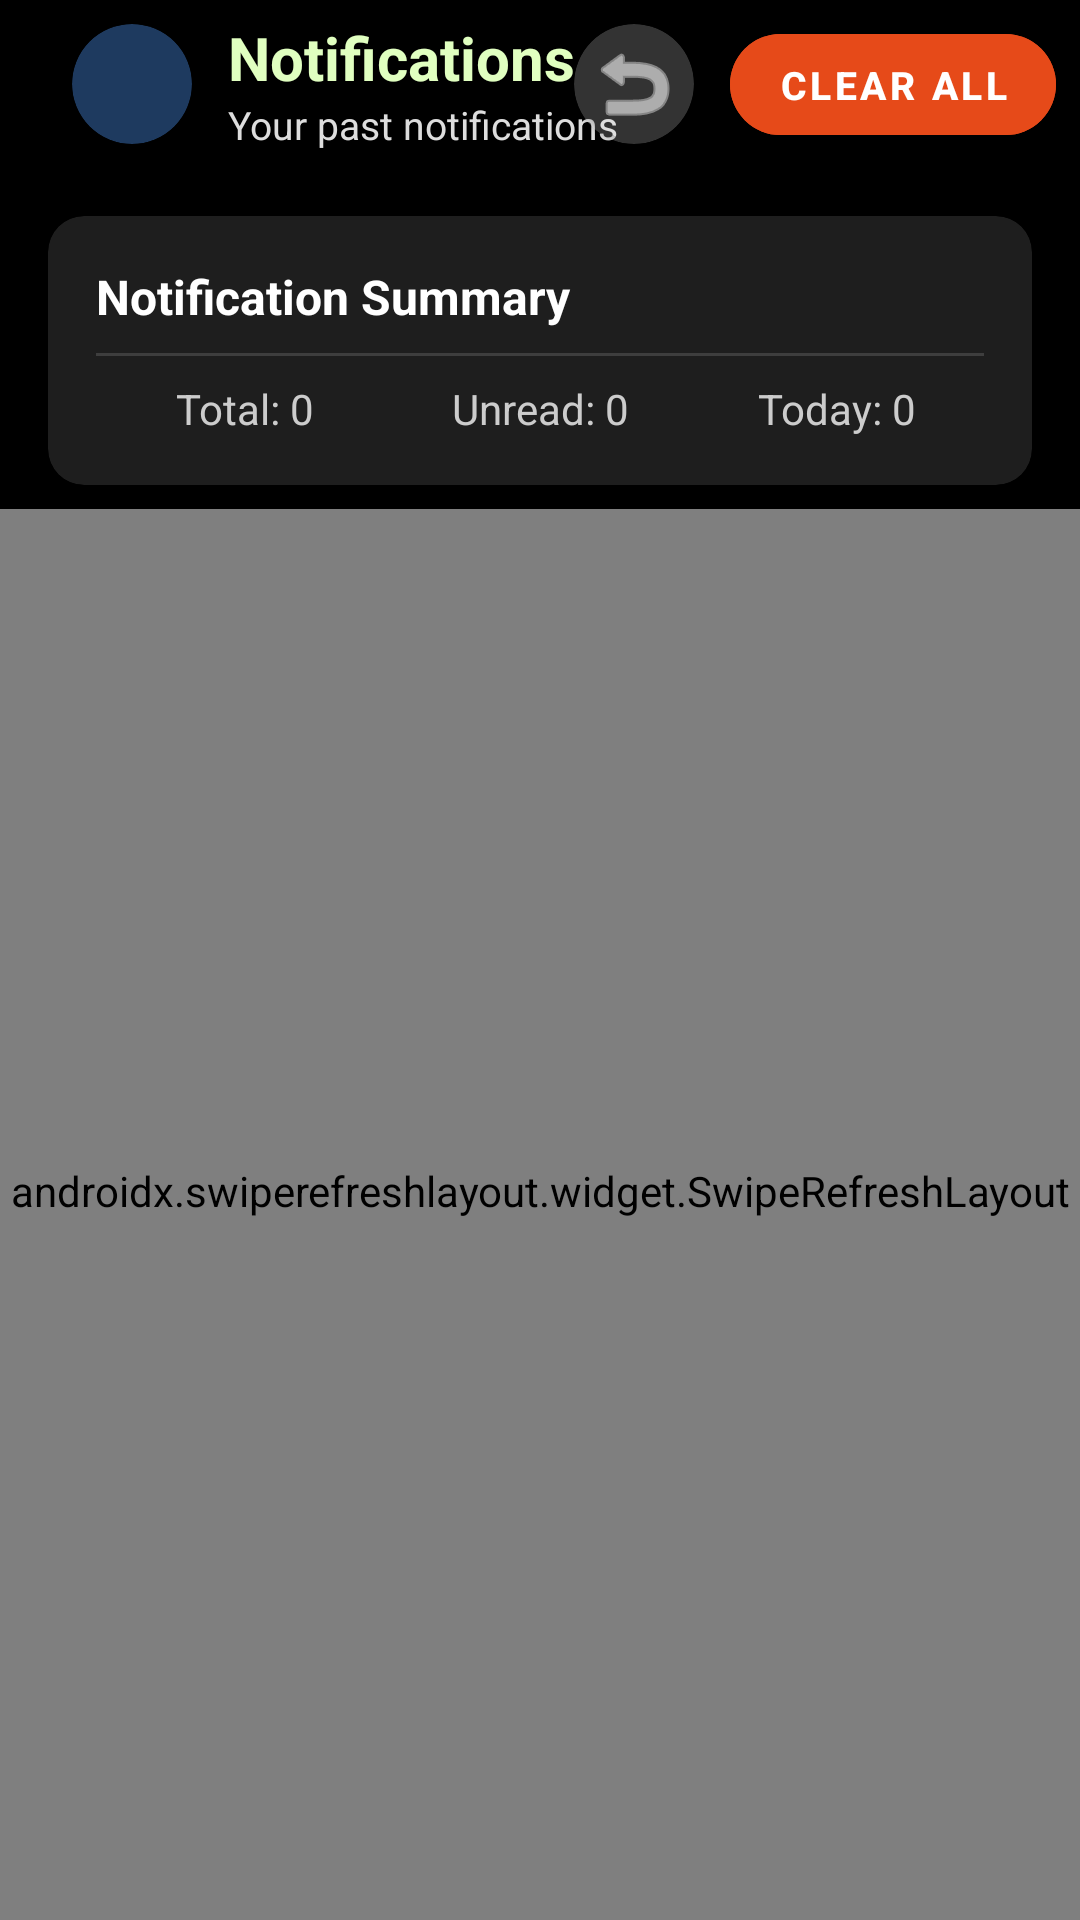

Screen size 1080×1920. Icon name, then its box in pixels as (x1, y1, x2, y2):
Back: (574, 24, 694, 144)
